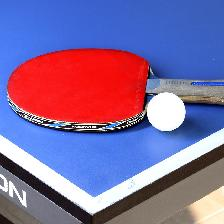WhiteBall: (145, 91, 186, 130)
